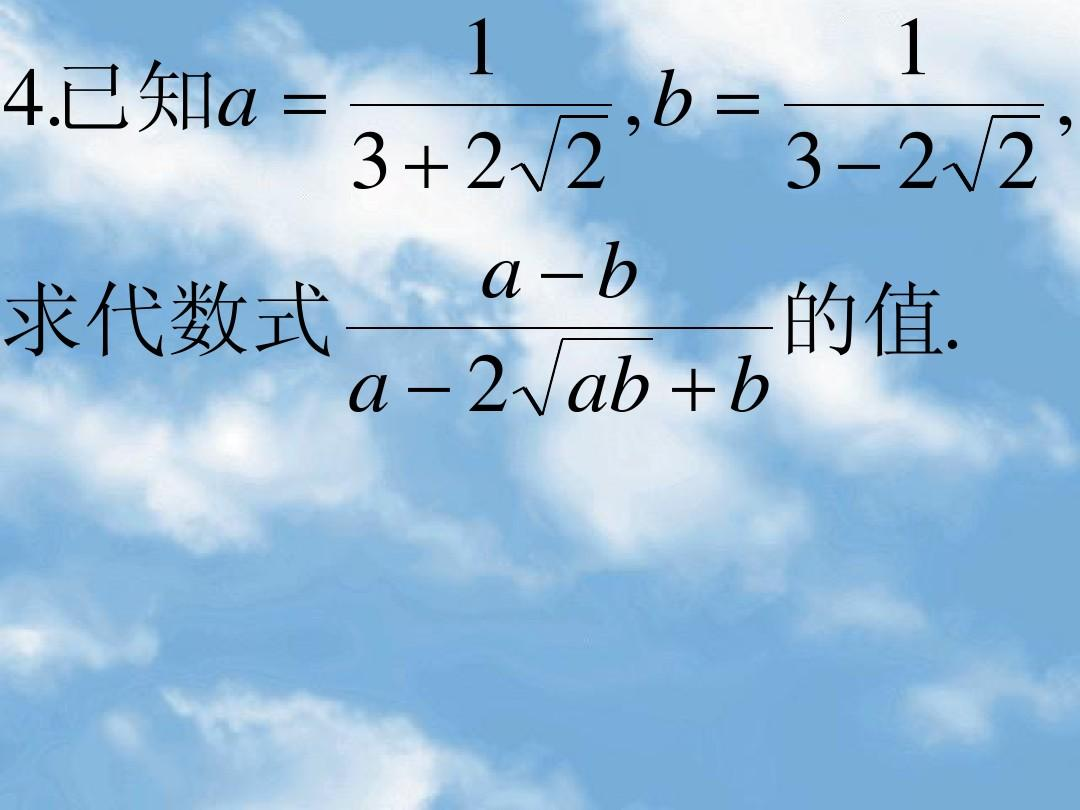division: (339, 319, 773, 333), (343, 99, 620, 114), (780, 97, 1049, 110)
sqrt: (526, 328, 665, 420), (951, 110, 1061, 206), (521, 110, 616, 198)
